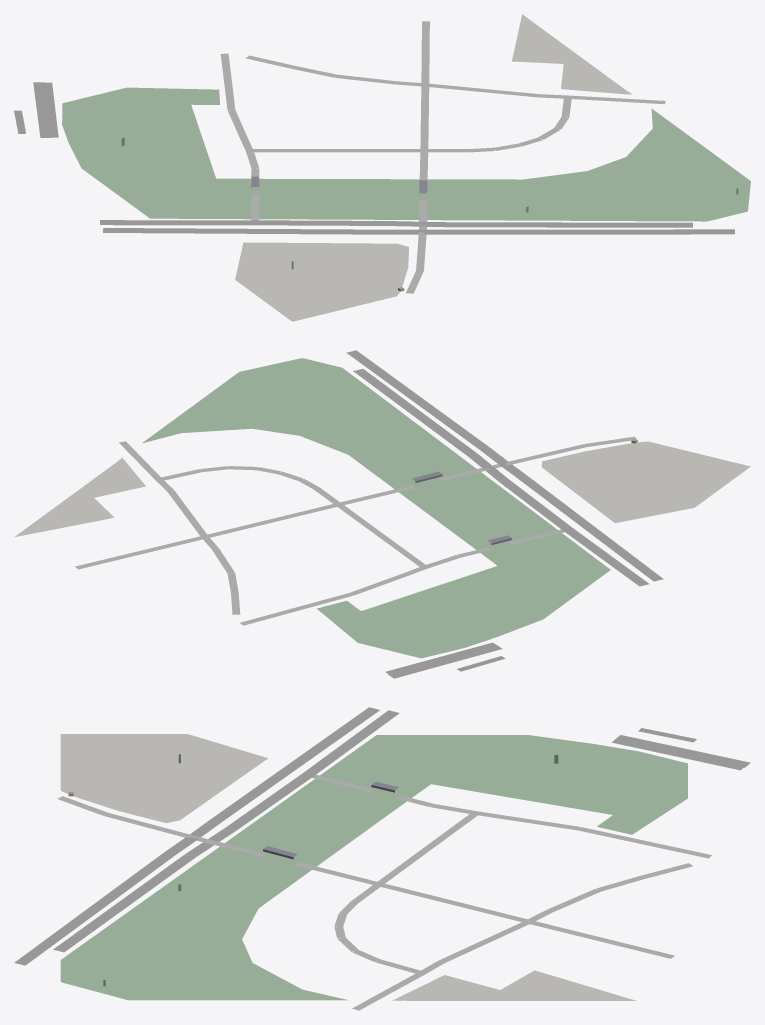
3 renders of one model, top to bottom at view 1: azimuth 30°, elevation 25°; view 2: azimuth 150°, elevation 25°; view 3: azimuth 270°, elevation 25°, orthographic. The views are drawn at different scales.
Bounding box in the file's own units: 571 × 9.16 × 587.
